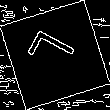L_SE: (26, 29, 84, 81)
